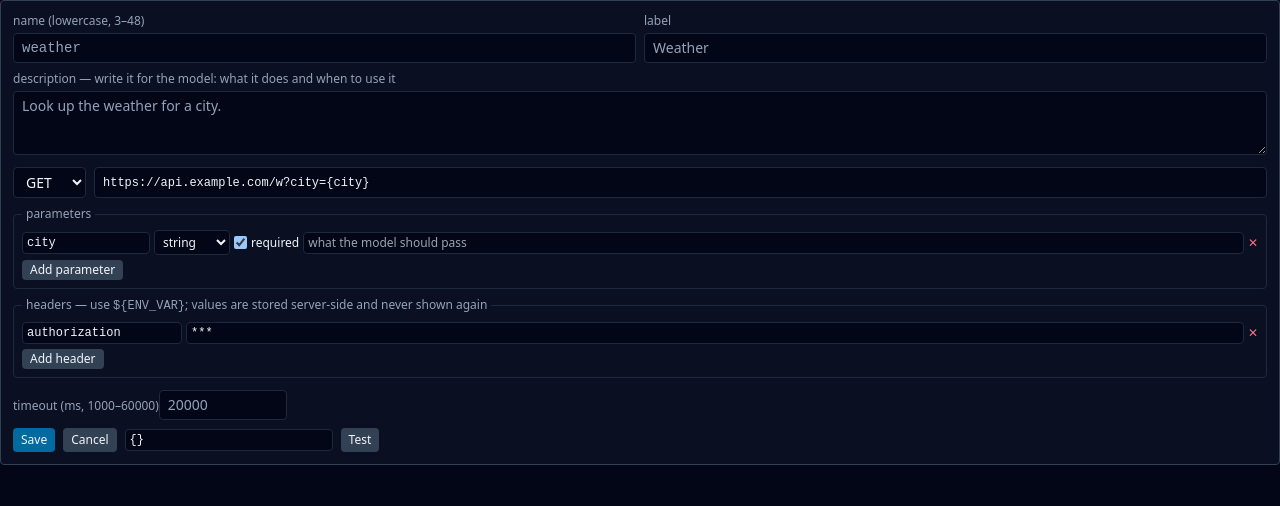
Test: HttpToolEditor › [05-skills-and-tools#B.5.3] surfaces the SSRF refusal returned by the test endpoint
What coordinates should you click on to do the following:
click the button with test id "http-tool-test"
I would click on:
 (360, 440)
Its box is [340, 428, 379, 452].
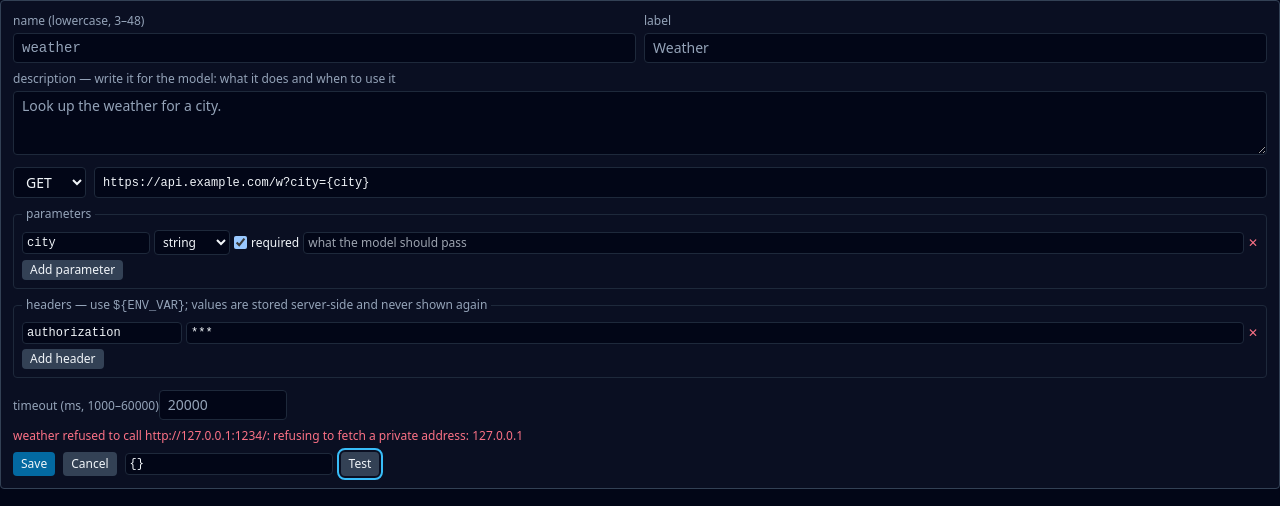
Expected: the text with test id "http-tool-error" shows "private address", [13, 427, 523, 444]
